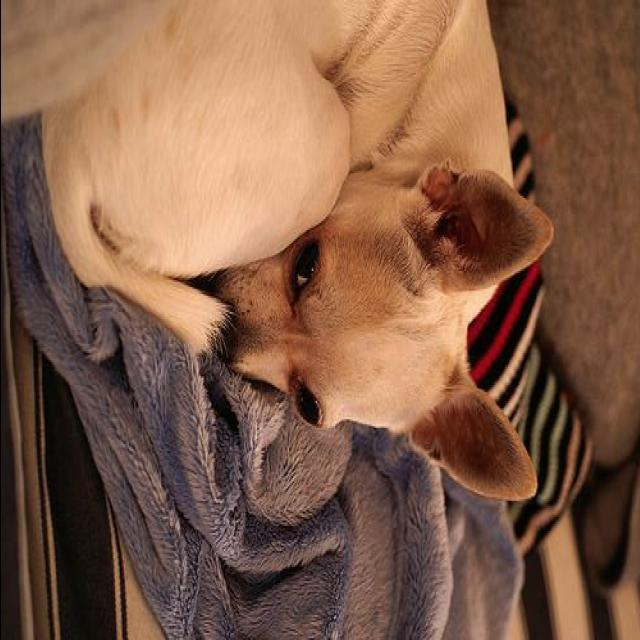chihuahua: (2, 2, 560, 501)
